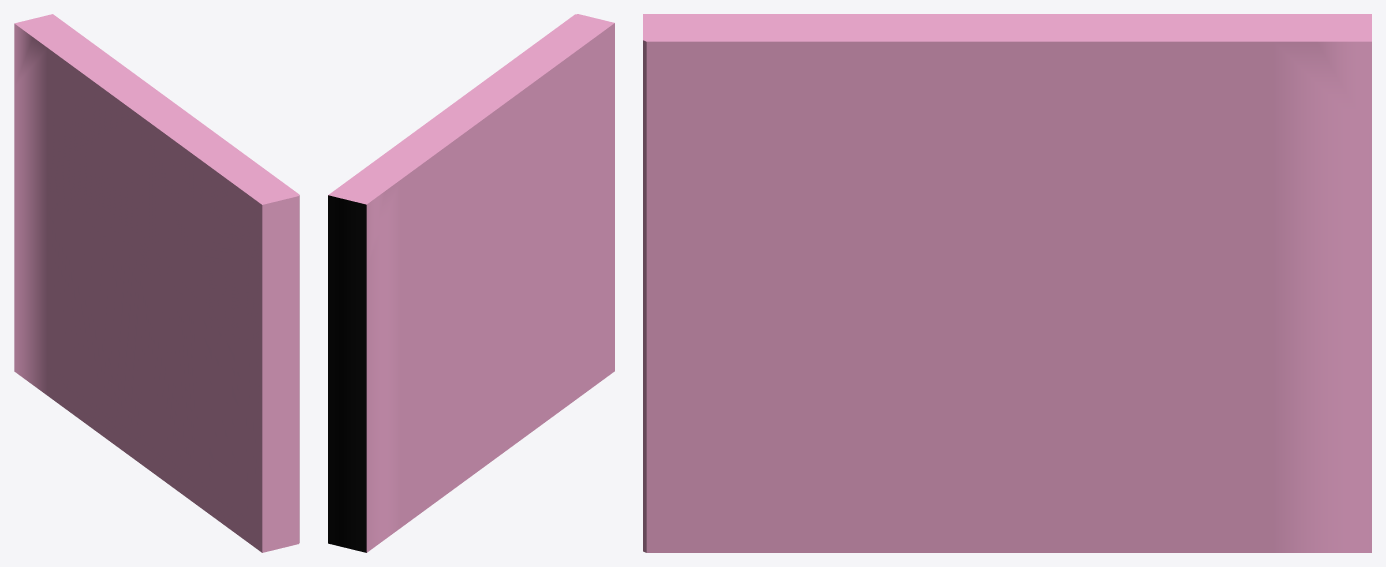
Rendered from Wall_West_Base_Fixed.fbx.
3 views of the same model, side by side, from view 1: azimuth 30°, elevation 25°; view 2: azimuth 150°, elevation 25°; view 3: azimuth 270°, elevation 25° (orthographic). The views are drawn at different scales.
Visible parts, largest first — view 1: Wall_Base_Fixed; view 2: Wall_Base_Fixed; view 3: Wall_Base_Fixed.
Boxes of the visible parts, x1,y1,x2,y2 form: Wall_Base_Fixed: (14, 14, 299, 552); Wall_Base_Fixed: (328, 14, 614, 552); Wall_Base_Fixed: (643, 14, 1371, 552).
Bounding box in the file's own units: 8.54 × 73.56 × 95.03.
